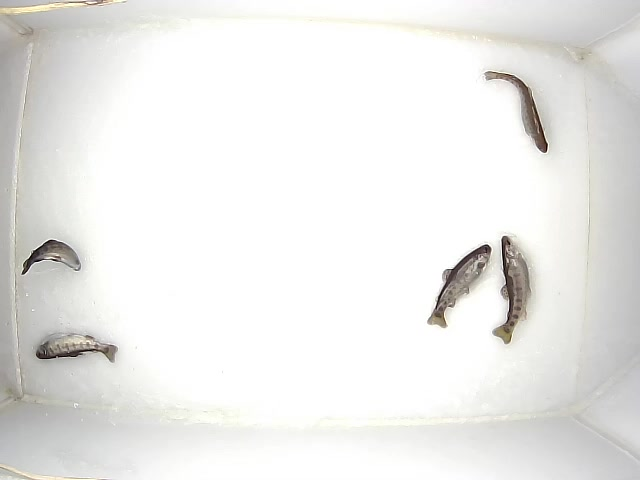fish: (427, 244, 492, 328), (484, 71, 548, 153), (492, 236, 531, 345), (35, 332, 118, 363), (21, 239, 81, 275)
